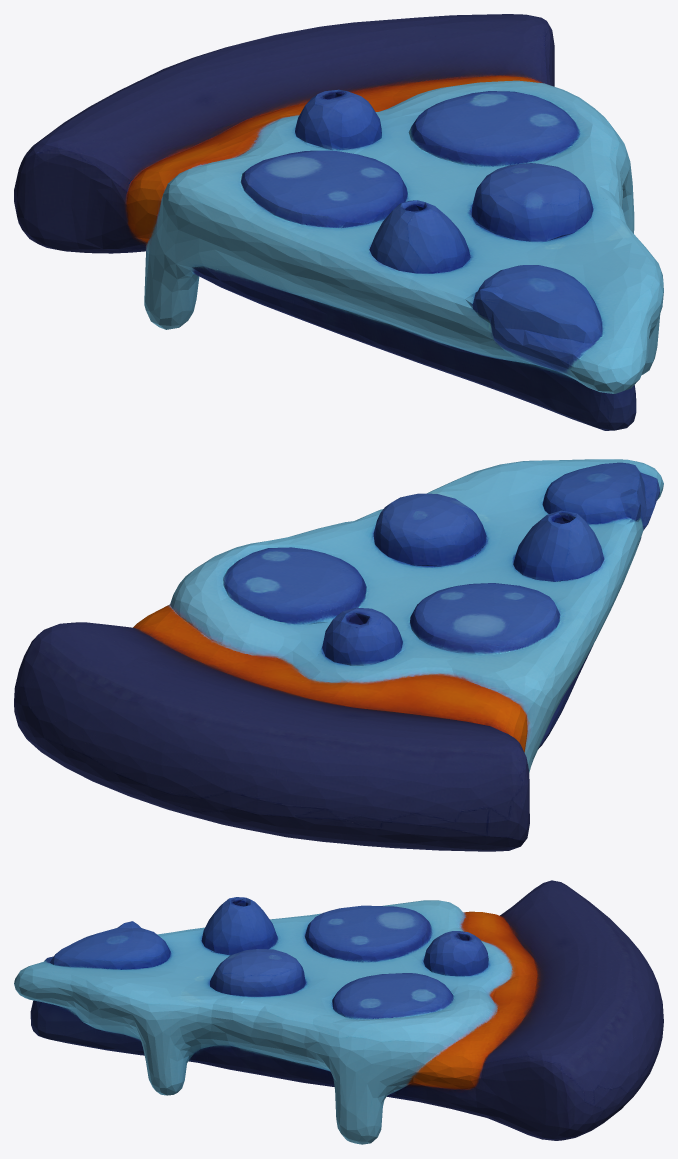
The model's file is bluepizza.glb.
3 renders of one model, top to bottom at view 1: azimuth 30°, elevation 25°; view 2: azimuth 150°, elevation 25°; view 3: azimuth 270°, elevation 25°, orthographic. The views are drawn at different scales.
Visible parts, largest first — view 1: world; view 2: world; view 3: world.
Boxes of the visible parts, bbox=[...] form: world: bbox=[14, 14, 663, 430]; world: bbox=[14, 459, 663, 851]; world: bbox=[14, 880, 663, 1144].
Size of the model in its own units: 0.5177 by 0.1977 by 0.7282.
1 material, 1 textured.
